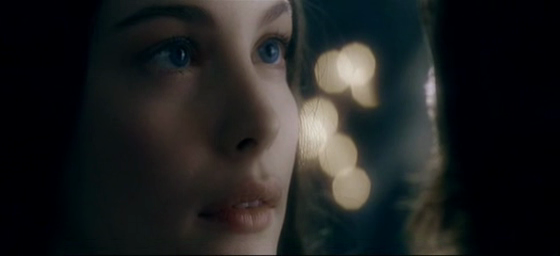ecu: (1, 1, 560, 256)
face: (93, 1, 300, 256)
person: (1, 1, 321, 256)
